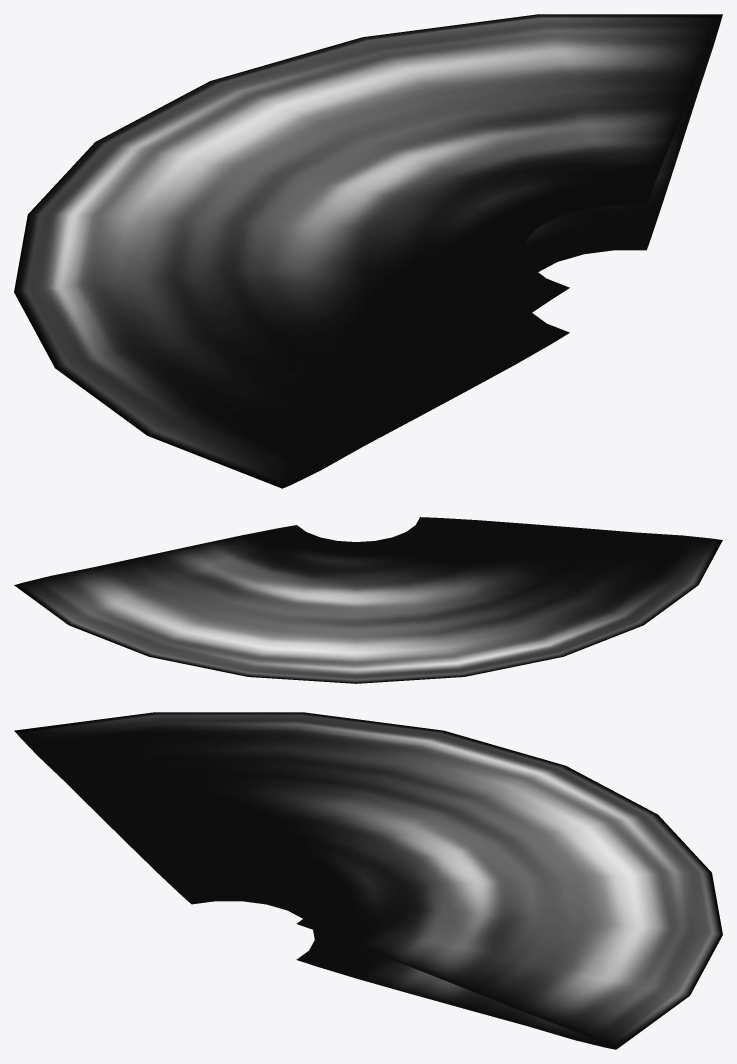
File: FX_Dagger_Mesh.fbx
3 views of the same model, one above another, from view 1: azimuth 30°, elevation 25°; view 2: azimuth 150°, elevation 25°; view 3: azimuth 270°, elevation 25° (orthographic). The views are drawn at different scales.
Visible parts, largest first — view 1: Torus; view 2: Torus; view 3: Torus.
Part boxes in pixels (left/top/right/bottom): Torus: left=14, top=14, right=722, bottom=488; Torus: left=14, top=517, right=722, bottom=683; Torus: left=14, top=712, right=722, bottom=1049.
Size of the model in its own units: 0.4844 by 0.0241 by 0.43.
1 material, 1 textured.
